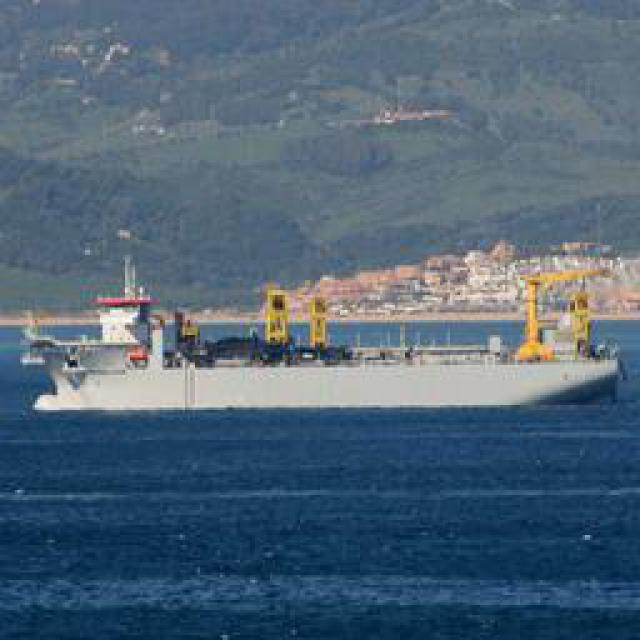Ship: (10, 304, 630, 419)
